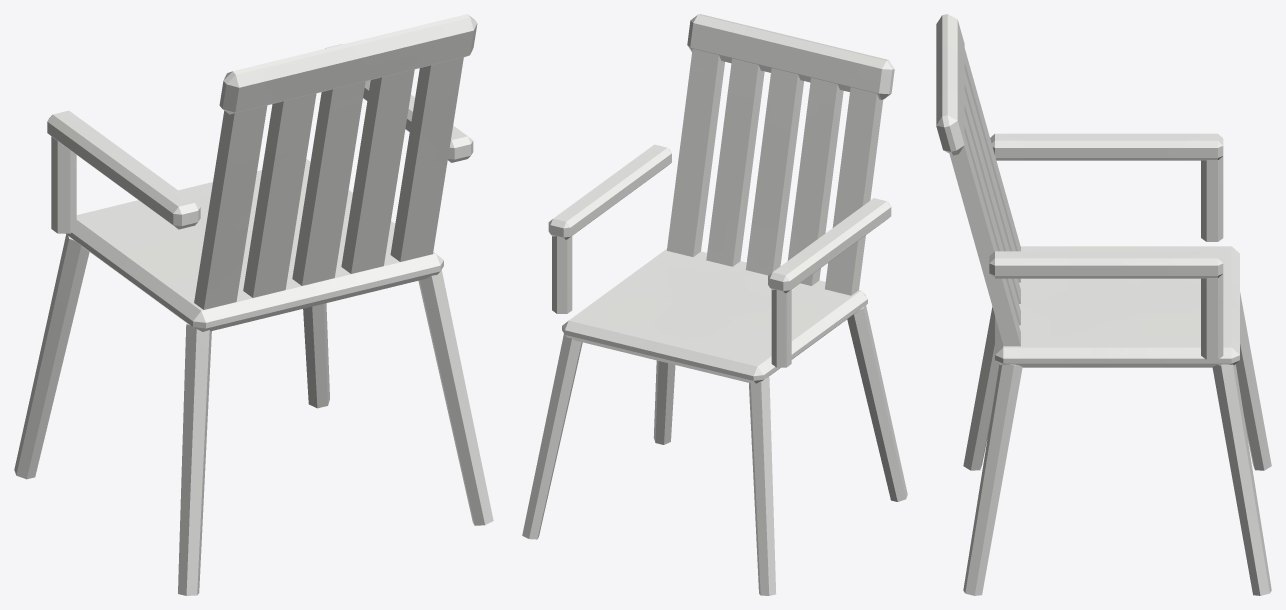
The model's file is beach-chair-white.glb.
3 renders of one model, left to right at view 1: azimuth 30°, elevation 25°; view 2: azimuth 150°, elevation 25°; view 3: azimuth 270°, elevation 25°, orthographic. The views are drawn at different scales.
Visible parts, largest first — view 1: beach_chair_white; view 2: beach_chair_white; view 3: beach_chair_white.
Boxes of the visible parts, box(x1,y1,x2,y2) form: beach_chair_white: box(14, 14, 493, 595); beach_chair_white: box(522, 14, 907, 595); beach_chair_white: box(936, 14, 1271, 595).
Size of the model in its own units: 0.5751 by 0.9238 by 0.6024.
1 material, 1 textured.
